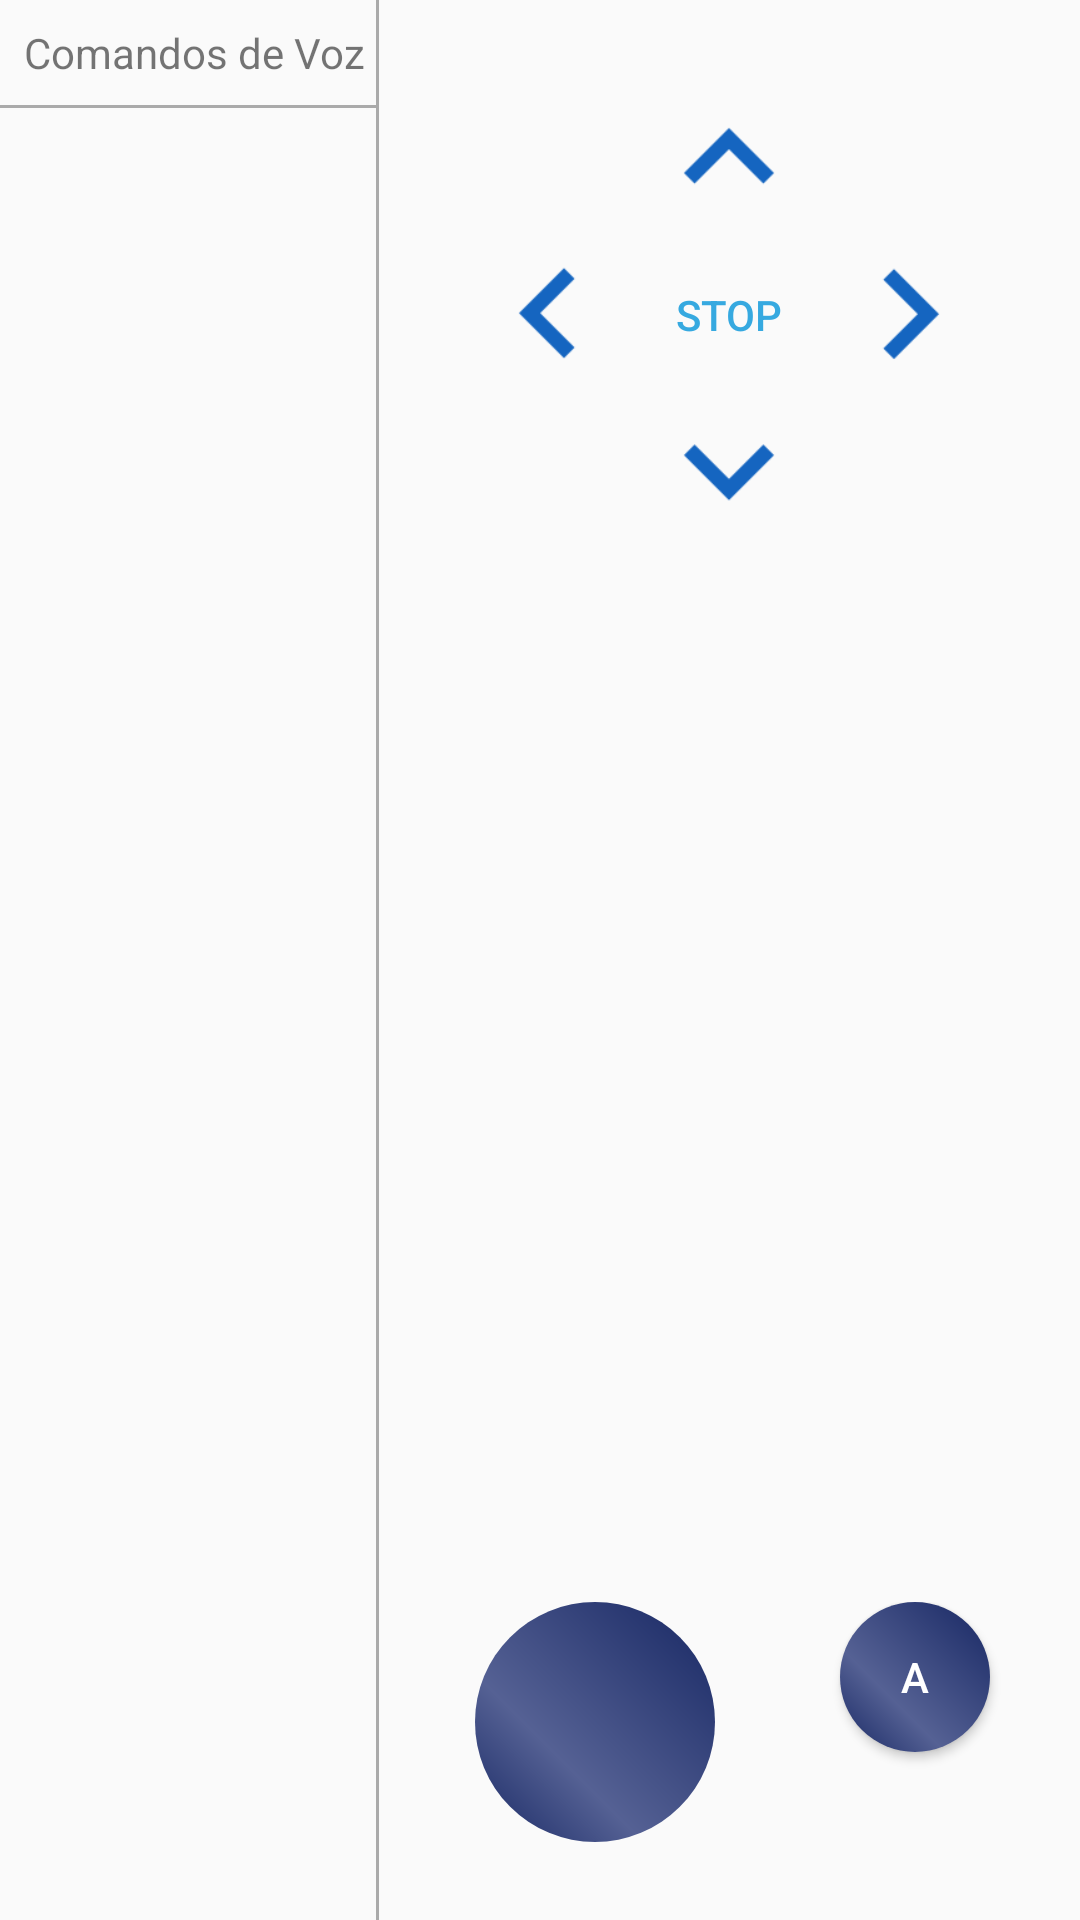

Screen size 1080w x 1920h. Icon name, then its center in pixels as [x,y]:
arrow down: [729,472]
arrow left: [547,313]
arrow right: [911,314]
arrow up: [729,156]
